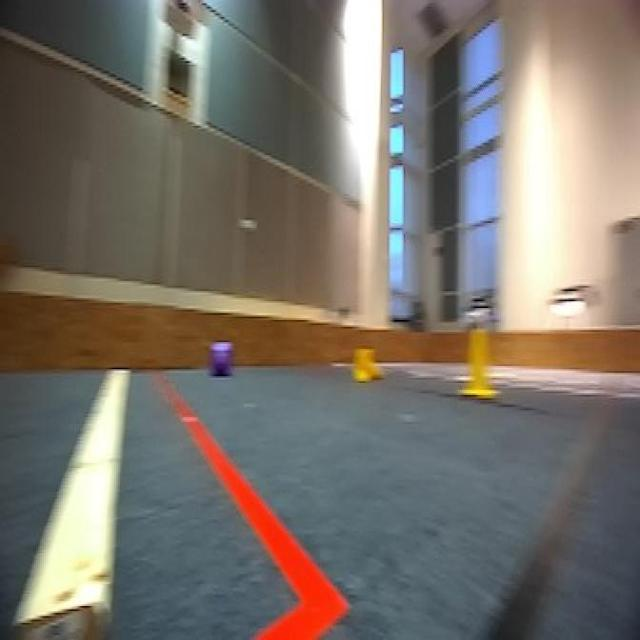frc_cone: (455, 322, 503, 398), (348, 344, 388, 385)
frc_cube: (210, 337, 235, 378)
